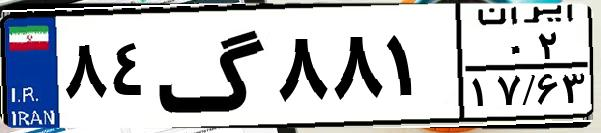0: (508, 27, 537, 80)
1: (385, 28, 445, 110), (470, 70, 495, 125)
2: (537, 27, 568, 80)
3: (560, 70, 590, 125)
4: (110, 28, 156, 98)
6: (535, 70, 560, 125)
7: (495, 70, 520, 125)
8: (270, 28, 330, 110), (330, 28, 385, 110), (57, 26, 110, 100)
گ: (156, 12, 270, 120)
